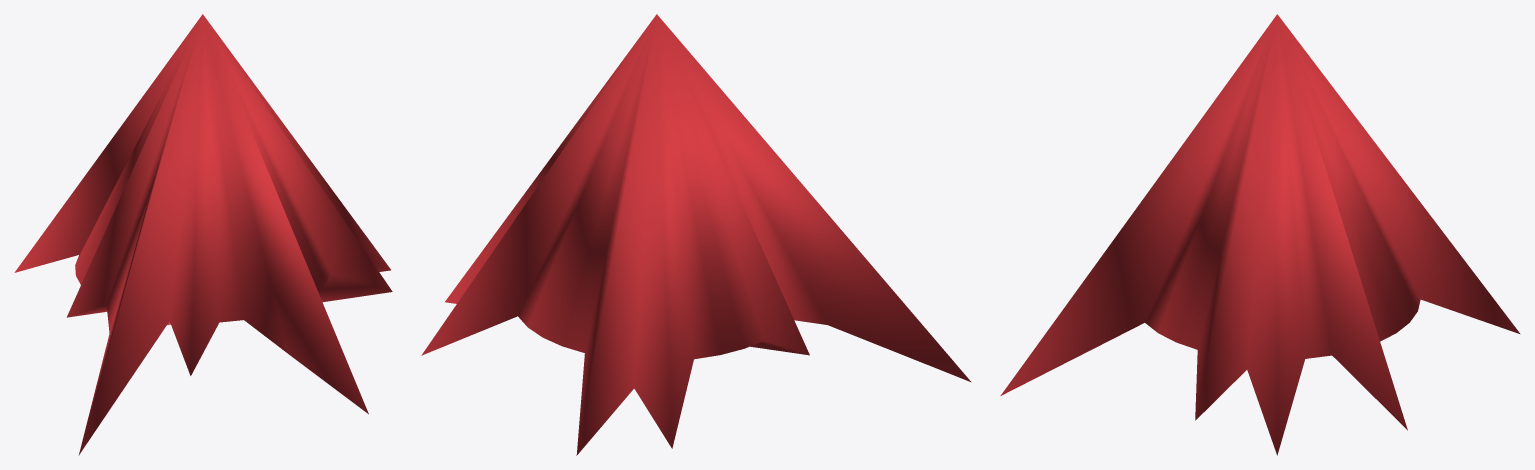
File: AlienShrapnelRed.fbx
The picture shows the model from 3 angles, left to right: view 1: azimuth 30°, elevation 25°; view 2: azimuth 150°, elevation 25°; view 3: azimuth 270°, elevation 25°; orthographic projection. The views are drawn at different scales.
Visible parts, largest first — view 1: Cone; view 2: Cone; view 3: Cone.
Boxes of the visible parts, x1=… form: Cone: x1=14, y1=14, x2=392, y2=455; Cone: x1=421, y1=14, x2=971, y2=455; Cone: x1=1000, y1=14, x2=1520, y2=455.
Bounding box in the file's own units: 2 × 1.64 × 2.06.
